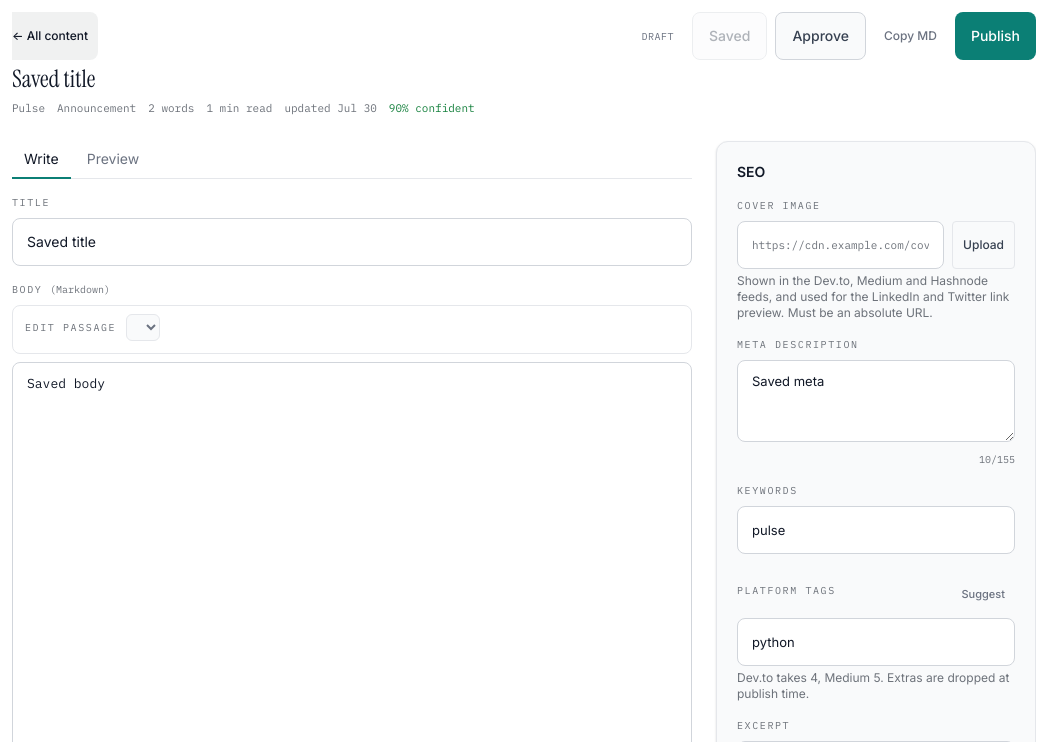
Scenario: auto-save › keeps that time true while the writer sits reading, not 'just now' forever
This screenshot has width=1048, height=742.
Replace the text in the field labelled "Title" with "Saved title!": (352, 242) [12,218,692,266]
Wait 302000 ms
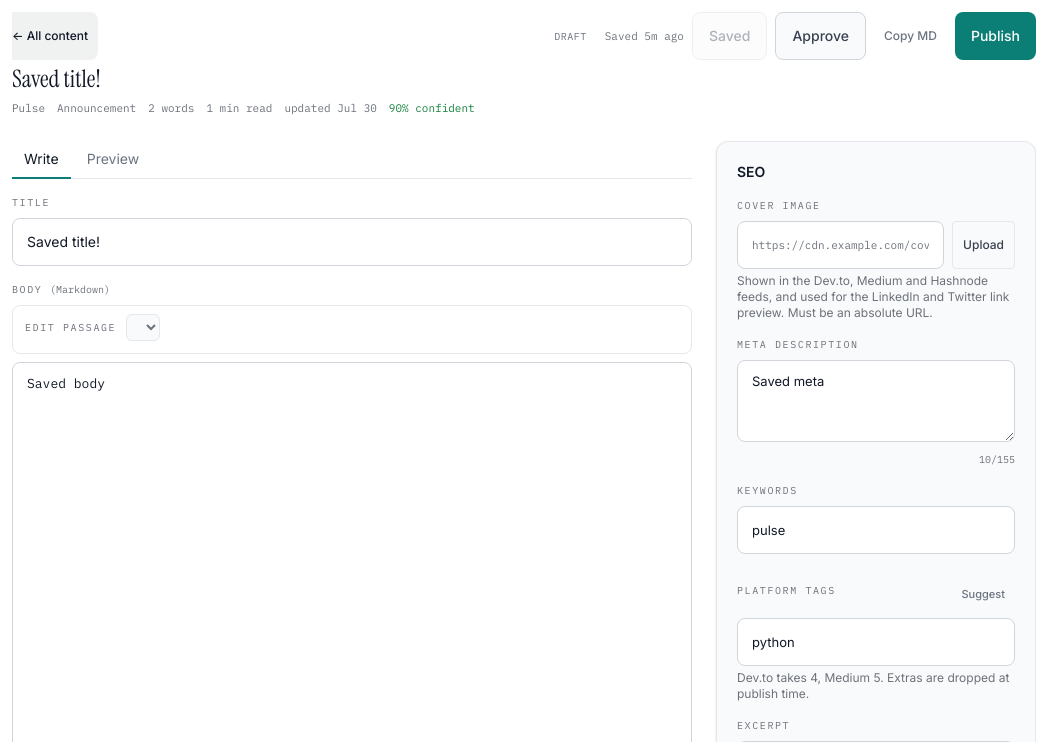
Expected: the text "Saved 5m ago" is shown, [605,28,684,44]
